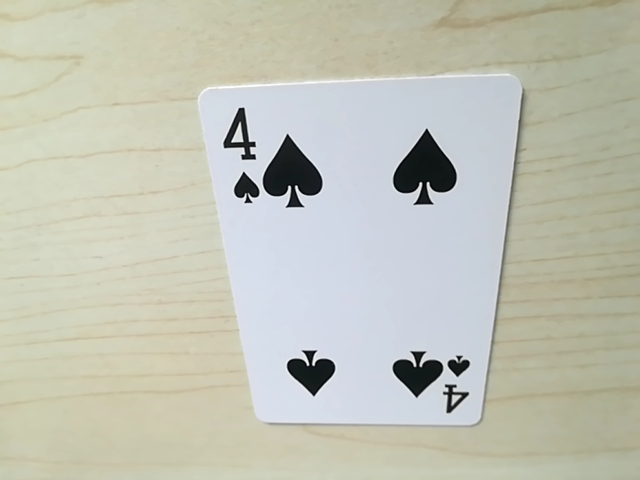ht 4: (214, 95, 272, 206), (430, 354, 473, 419)
